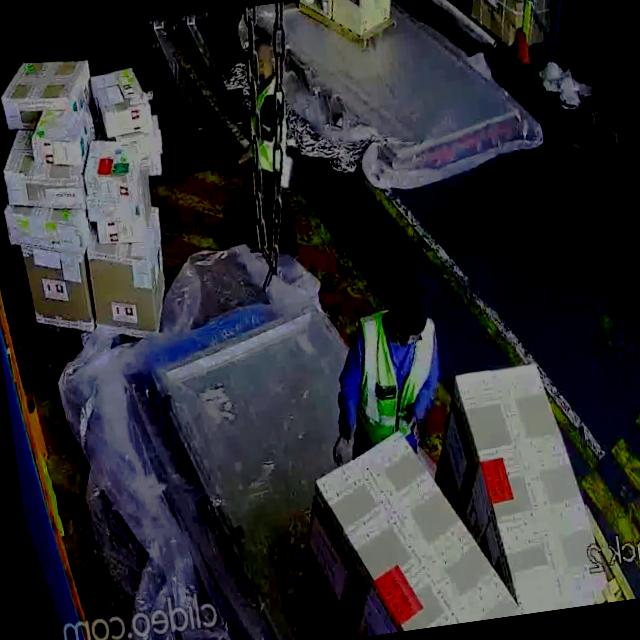Box: (83, 238, 174, 332), (24, 248, 96, 335), (0, 56, 93, 122), (78, 138, 144, 204), (96, 62, 154, 134), (0, 168, 76, 214), (5, 207, 80, 250), (35, 108, 86, 160)
